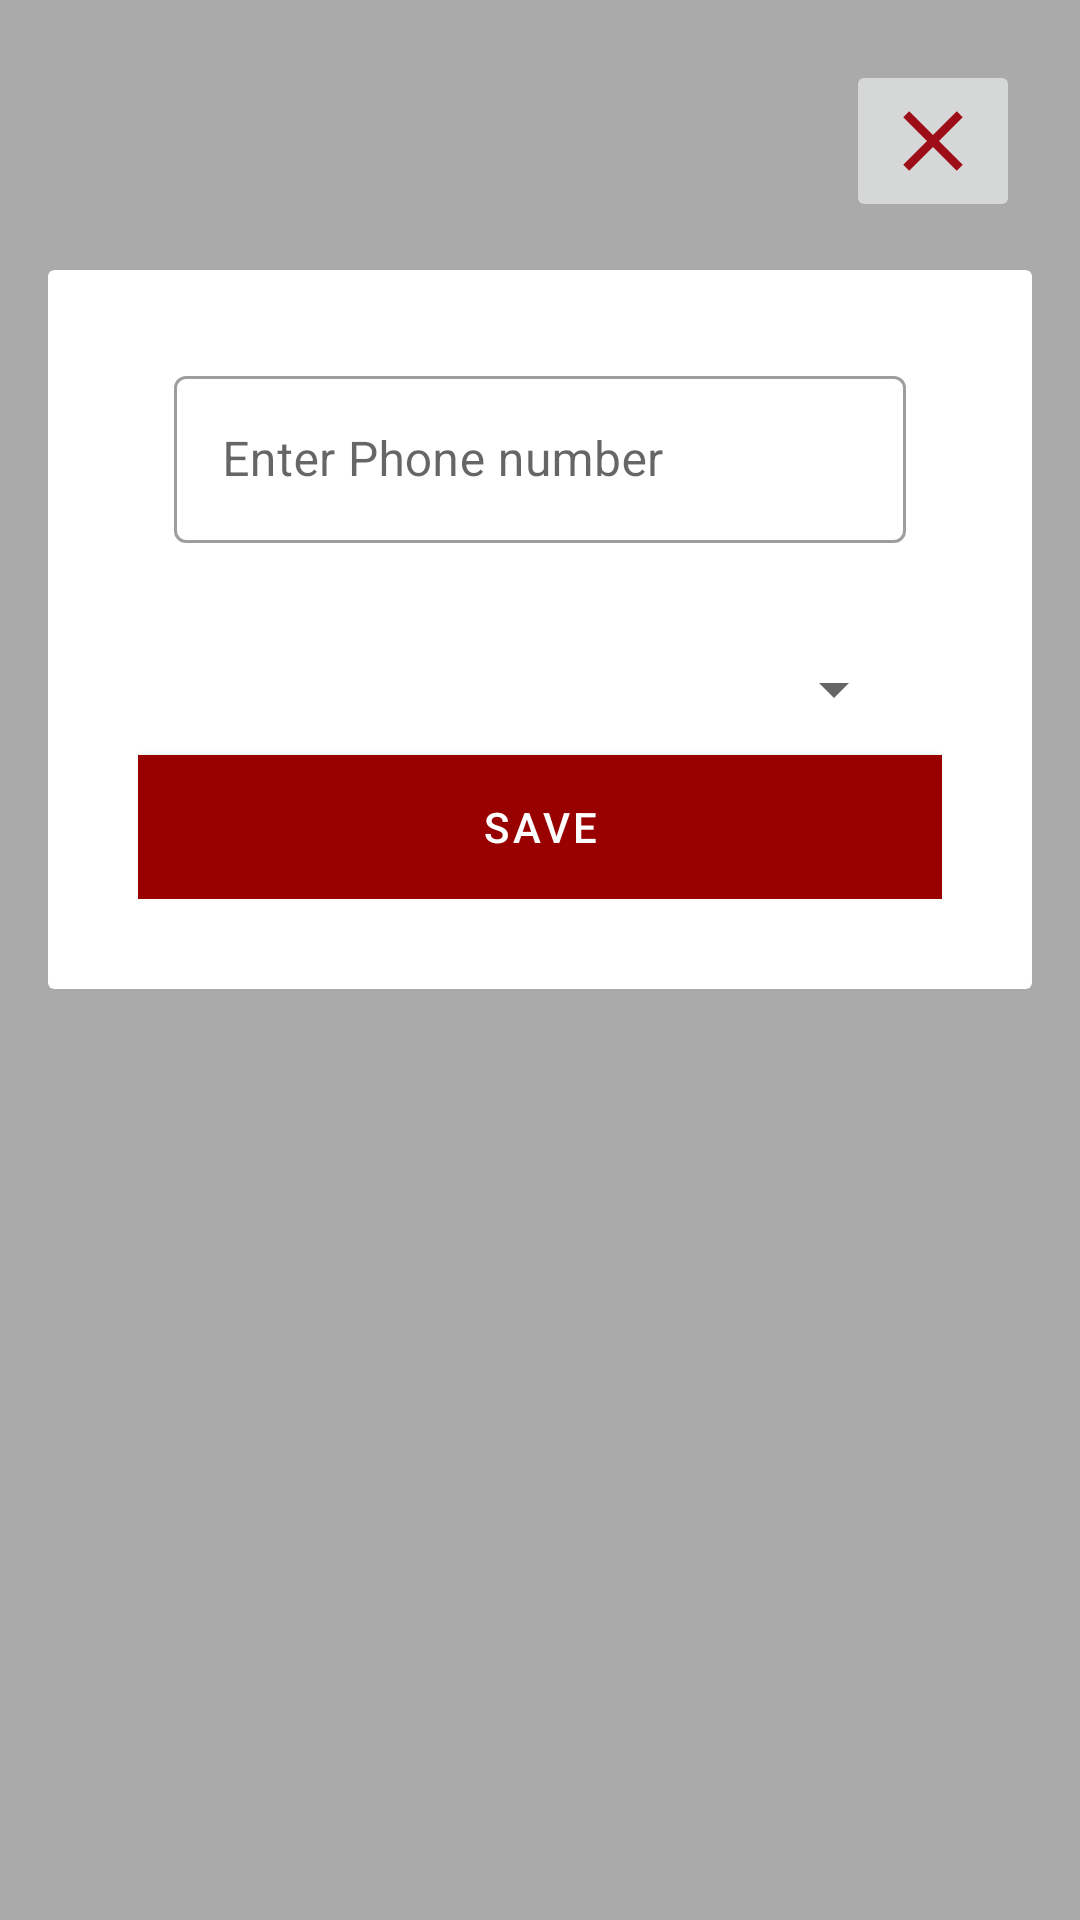

Icon bounding boxes for this 1080w x 1920h phone screenshot, format box(x1, y1, x2, y2):
arrow close: box(858, 78, 1008, 204)
